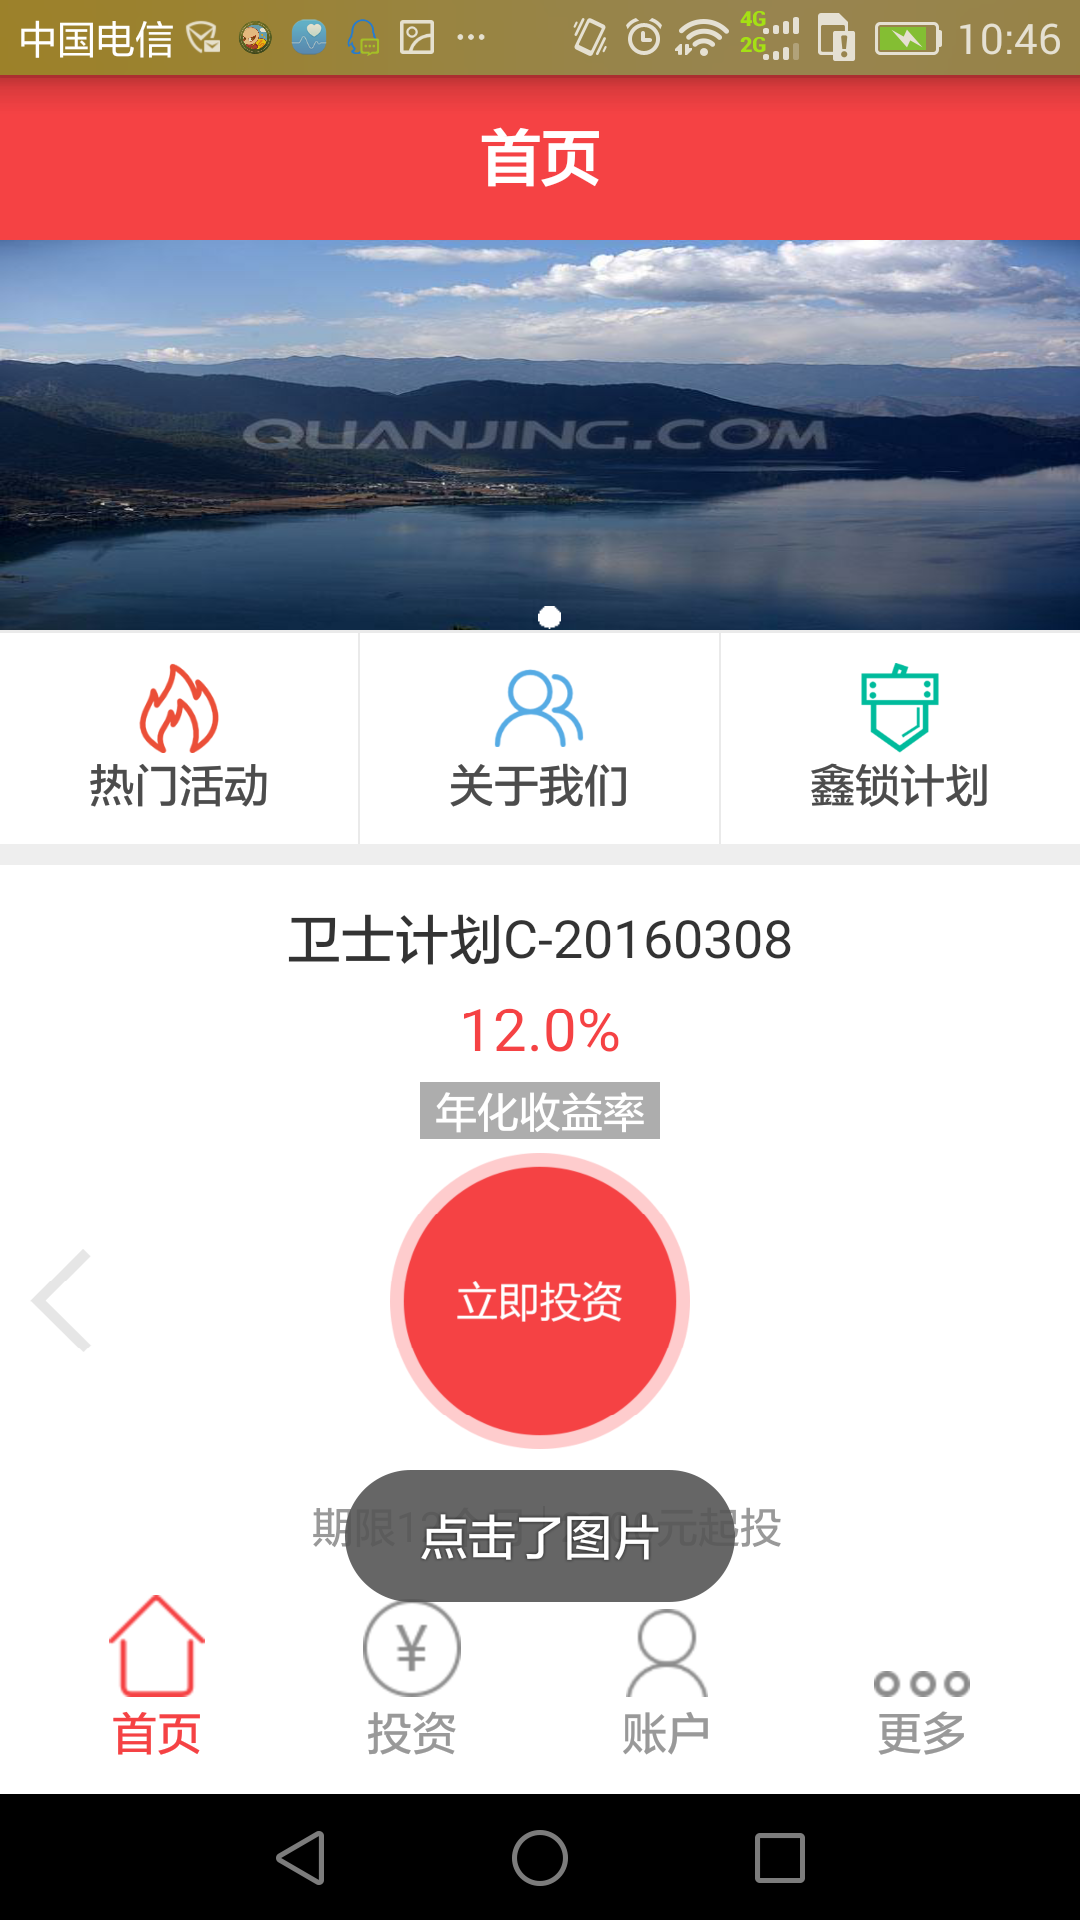alert: (343, 1457, 746, 1610)
